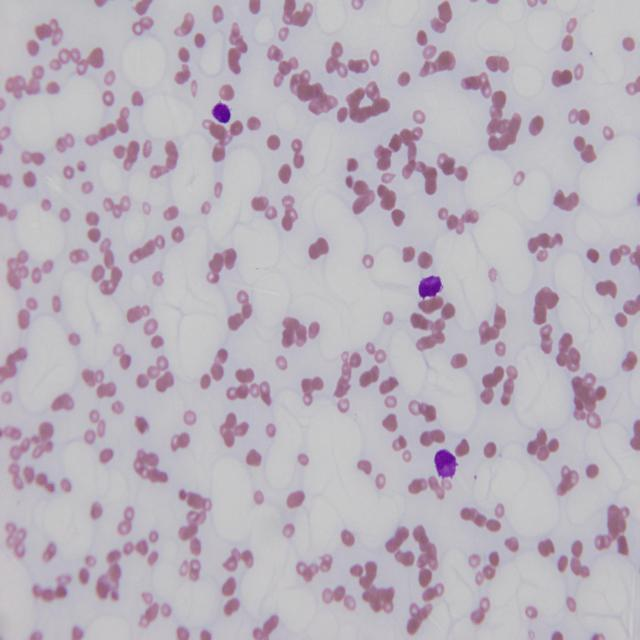cell: (434, 449, 458, 478), (419, 276, 442, 298), (211, 102, 231, 123)
